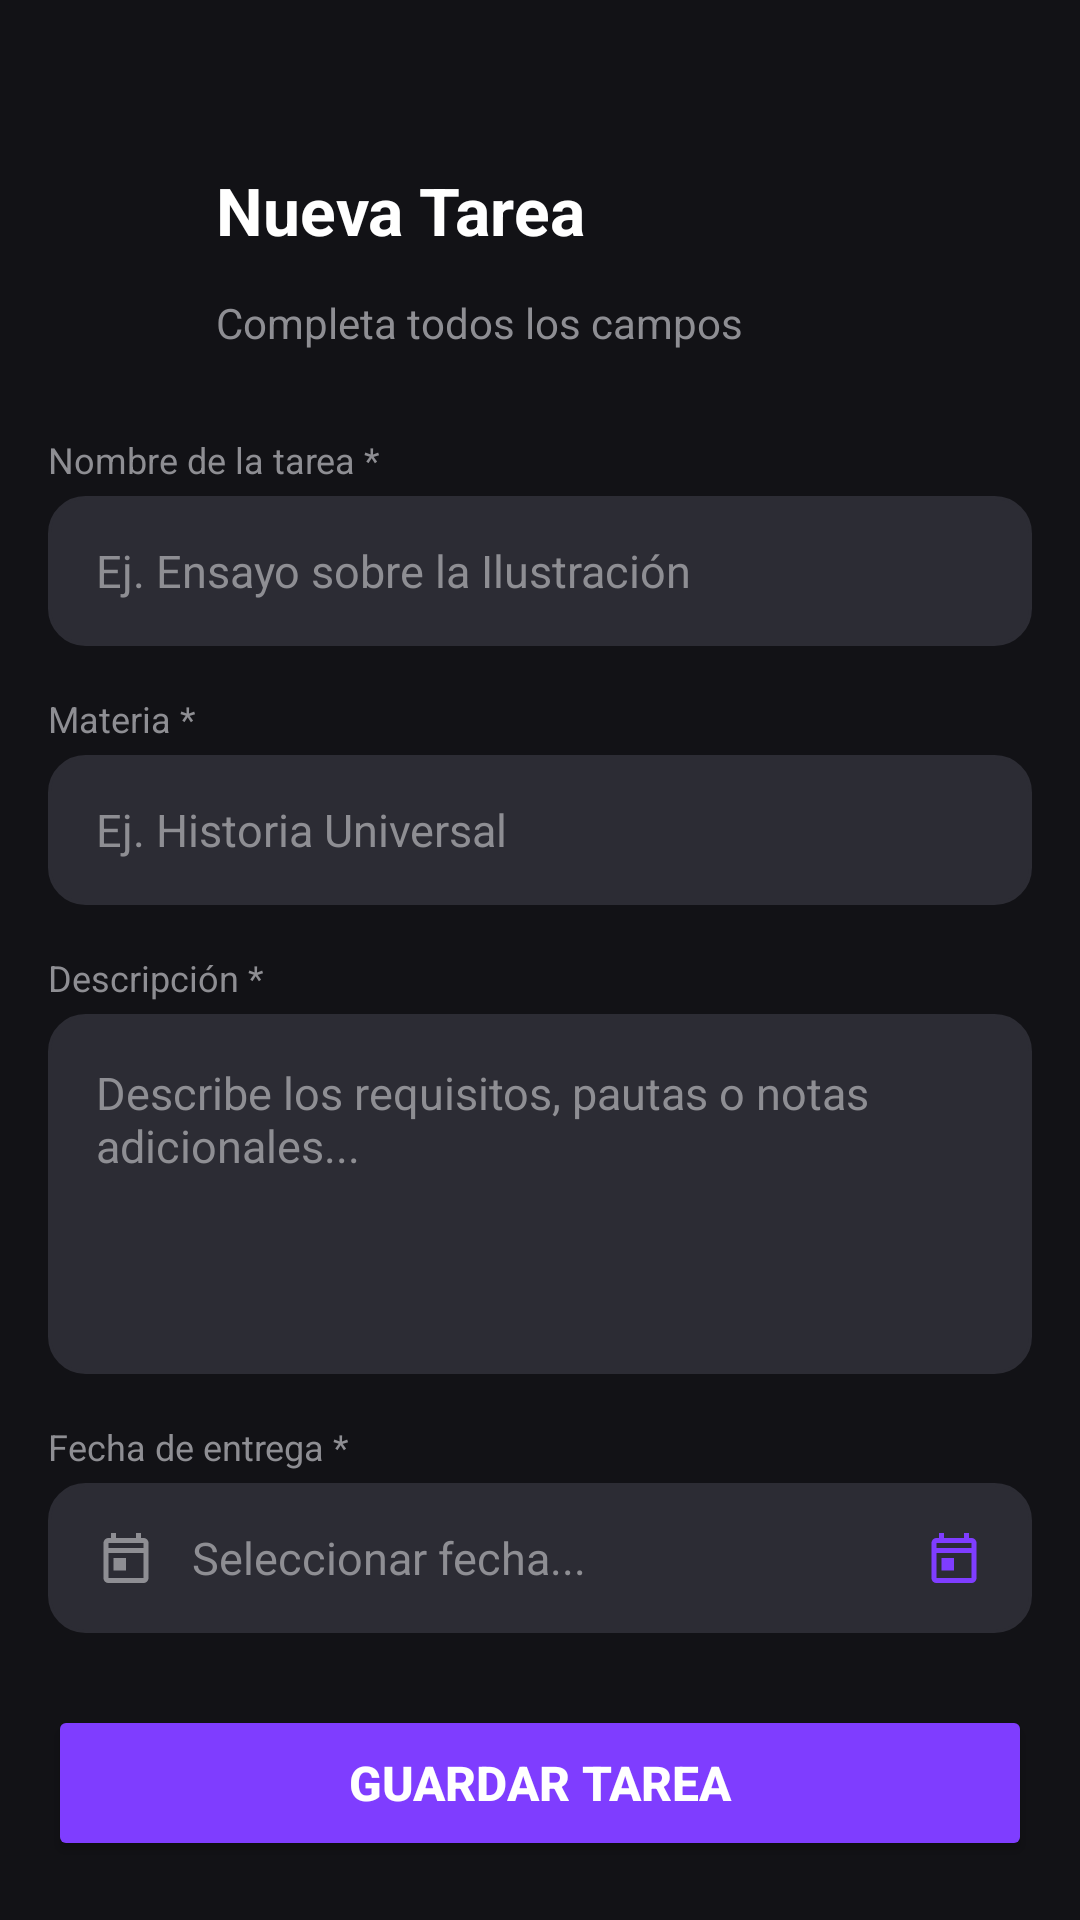

Screen size 1080*1920. Icon name, then its box in pixels as (x1, y1, x2, y2):
Calendario: (103, 1533, 149, 1583), (931, 1533, 977, 1583)
